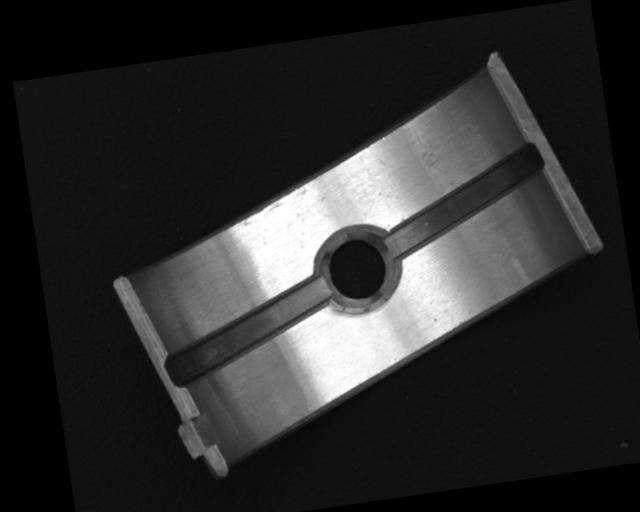gap: (371, 141, 555, 260), (158, 274, 338, 386)
hole: (314, 223, 400, 315)
